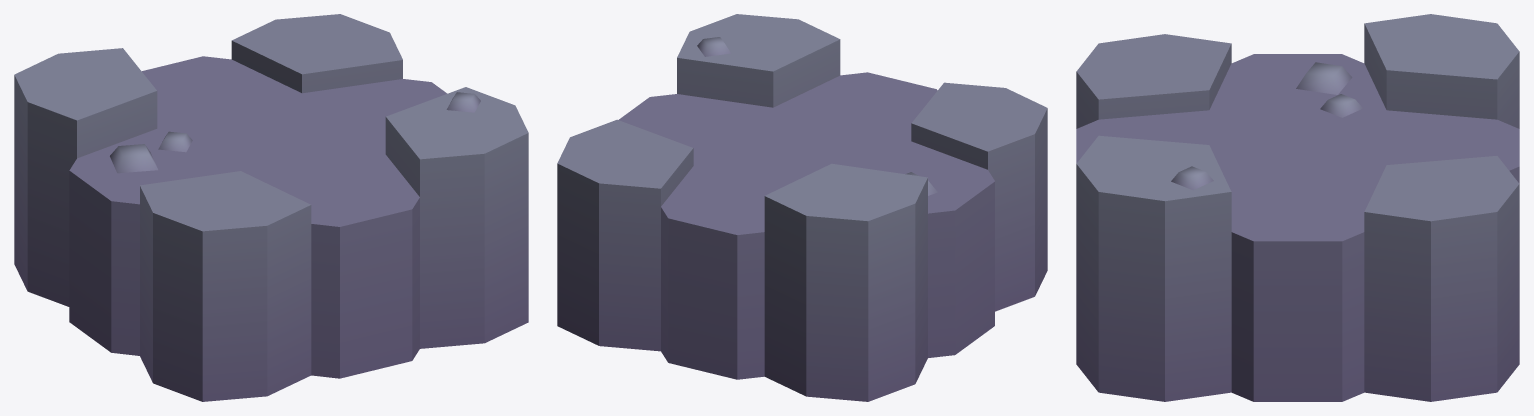
Rendered from rocks-low.obj.
3 renders of one model, left to right at view 1: azimuth 30°, elevation 25°; view 2: azimuth 150°, elevation 25°; view 3: azimuth 270°, elevation 25°, orthographic. The views are drawn at different scales.
Parts seen in each view (by area): view 1: rocks-low; view 2: rocks-low; view 3: rocks-low.
Boxes of the visible parts, box(x1,y1,x2,y2) form: rocks-low: box(14, 14, 528, 401); rocks-low: box(557, 14, 1047, 401); rocks-low: box(1076, 14, 1519, 401).
Size of the model in its own units: 1 by 0.5228 by 1.
1 material, 1 textured.
